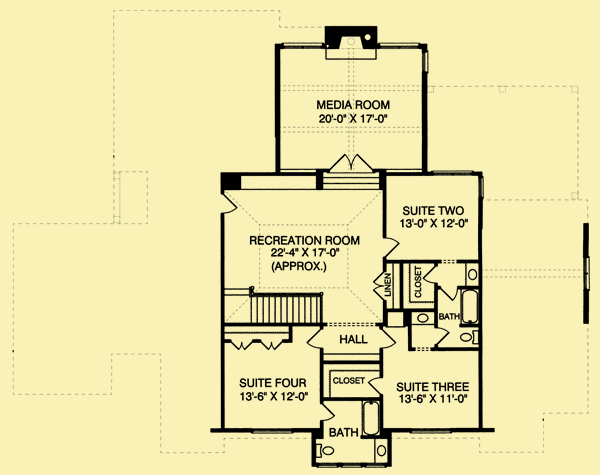door: (326, 150, 374, 171), (369, 270, 390, 301), (217, 193, 238, 216), (377, 327, 397, 350), (305, 327, 324, 350), (383, 237, 402, 258), (438, 283, 460, 301), (423, 264, 439, 288), (320, 401, 336, 425), (366, 376, 387, 393), (231, 338, 256, 351), (258, 339, 285, 351), (436, 326, 453, 345)
large_sink: (315, 441, 336, 461), (458, 329, 479, 346)
small_sink: (374, 436, 391, 465), (408, 311, 436, 325), (465, 264, 479, 289)
stairs: (226, 286, 325, 324), (318, 169, 383, 190)
tub: (458, 289, 478, 325), (360, 400, 379, 437)
window: (280, 42, 325, 49), (376, 43, 420, 50)
